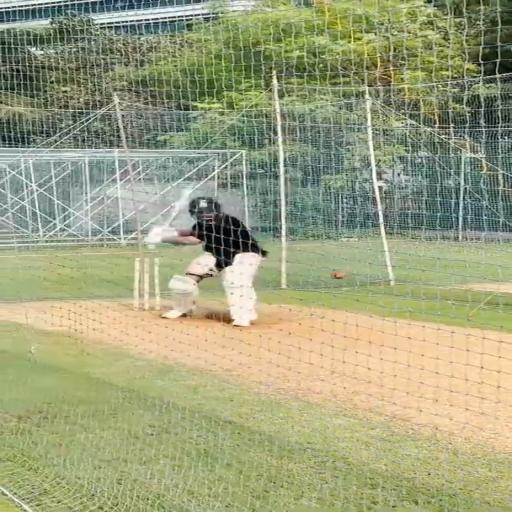Cricket bat: (165, 189, 191, 225)
